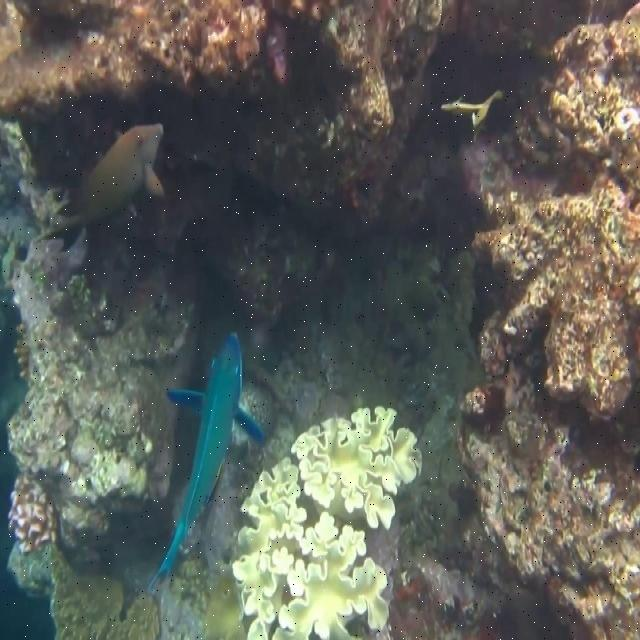fish: (144, 332, 265, 590), (82, 123, 165, 224), (473, 91, 503, 128), (440, 97, 483, 113)
reefs: (1, 0, 635, 321), (401, 2, 639, 638), (2, 171, 207, 598), (231, 406, 422, 639)
